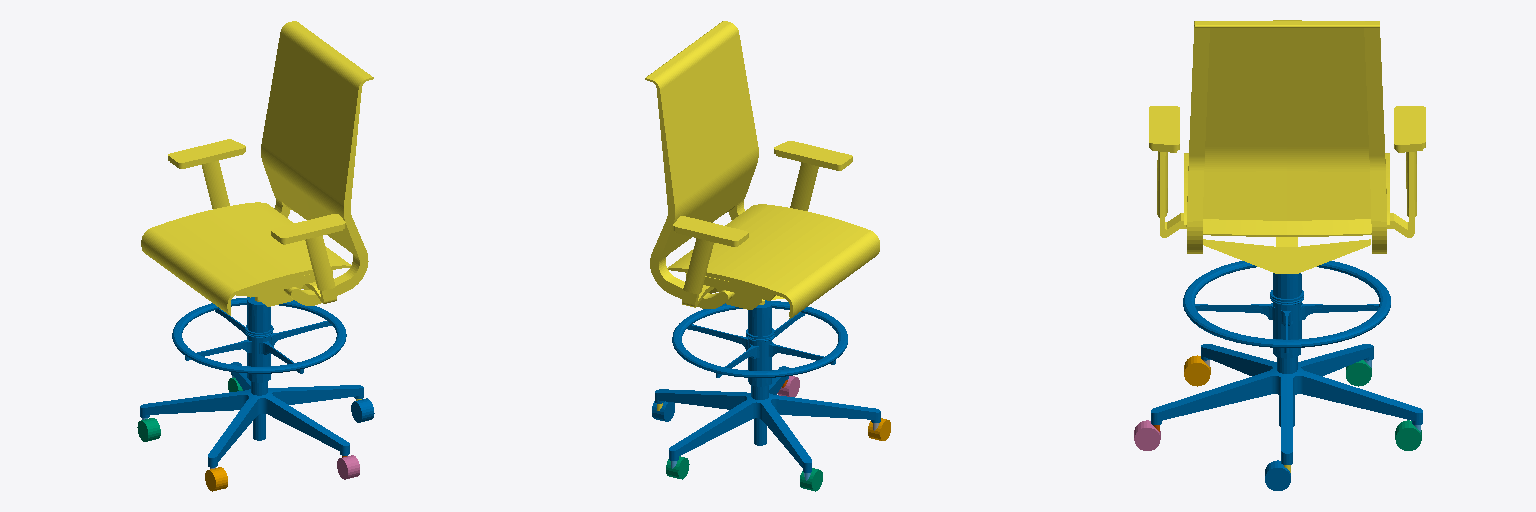
URDF robot description (partnet_5d60590d192c52553a23b8cb1a985a11):
<?xml version="1.0" ?>
<robot name="partnet_5d60590d192c52553a23b8cb1a985a11">
	<link name="base"/>
	<link name="link_0">
		<visual name="caster_stem-121">
			<origin xyz="0.4707100043177609 0 0.09939788493514051"/>
			<geometry>
				<mesh filename="textured_objs/original-17.obj"/>
			</geometry>
		</visual>
		<collision>
			<origin xyz="0.4707100043177609 0 0.09939788493514051"/>
			<geometry>
				<mesh filename="textured_objs/original-17.obj"/>
			</geometry>
		</collision>
	</link>
	<joint name="joint_0" type="continuous">
		<origin xyz="-0.4707100043177609 0 -0.09939788493514051"/>
		<axis xyz="0 1 0"/>
		<child link="link_0"/>
		<parent link="link_11"/>
	</joint>
	<link name="link_1">
		<visual name="wheel-122">
			<origin xyz="0.4381924251701442 0.783778 0"/>
			<geometry>
				<mesh filename="textured_objs/original-16.obj"/>
			</geometry>
		</visual>
		<collision>
			<origin xyz="0.4381924251701442 0.783778 0"/>
			<geometry>
				<mesh filename="textured_objs/original-16.obj"/>
			</geometry>
		</collision>
	</link>
	<joint name="joint_1" type="continuous">
		<origin xyz="0.032517579147616715 -0.783778 0.09939788493514051"/>
		<axis xyz="0 0 1"/>
		<child link="link_1"/>
		<parent link="link_0"/>
	</joint>
	<link name="link_2">
		<visual name="caster_stem-119">
			<origin xyz="0.013175996994972107 0 0.43086305685043264"/>
			<geometry>
				<mesh filename="textured_objs/original-14.obj"/>
			</geometry>
		</visual>
		<collision>
			<origin xyz="0.013175996994972107 0 0.43086305685043264"/>
			<geometry>
				<mesh filename="textured_objs/original-14.obj"/>
			</geometry>
		</collision>
	</link>
	<joint name="joint_2" type="continuous">
		<origin xyz="-0.013175996994972107 0 -0.43086305685043264"/>
		<axis xyz="0 1 0"/>
		<child link="link_2"/>
		<parent link="link_11"/>
	</joint>
	<link name="link_3">
		<visual name="wheel-120">
			<origin xyz="-0.01919977780095489 0.783778 0"/>
			<geometry>
				<mesh filename="textured_objs/original-13.obj"/>
			</geometry>
		</visual>
		<collision>
			<origin xyz="-0.01919977780095489 0.783778 0"/>
			<geometry>
				<mesh filename="textured_objs/original-13.obj"/>
			</geometry>
		</collision>
	</link>
	<joint name="joint_3" type="continuous">
		<origin xyz="0.032375774795927 -0.783778 0.43086305685043264"/>
		<axis xyz="0 0 1"/>
		<child link="link_3"/>
		<parent link="link_2"/>
	</joint>
	<link name="link_4">
		<visual name="caster_stem-117">
			<origin xyz="-0.44573907285928754 0 0.09923614031076429"/>
			<geometry>
				<mesh filename="textured_objs/original-5.obj"/>
			</geometry>
		</visual>
		<collision>
			<origin xyz="-0.44573907285928754 0 0.09923614031076429"/>
			<geometry>
				<mesh filename="textured_objs/original-5.obj"/>
			</geometry>
		</collision>
	</link>
	<joint name="joint_4" type="continuous">
		<origin xyz="0.44573907285928754 0 -0.09923614031076429"/>
		<axis xyz="0 1 0"/>
		<child link="link_4"/>
		<parent link="link_11"/>
	</joint>
	<link name="link_5">
		<visual name="wheel-118">
			<origin xyz="-0.476592 0.7837780000000001 0"/>
			<geometry>
				<mesh filename="textured_objs/original-4.obj"/>
			</geometry>
		</visual>
		<collision>
			<origin xyz="-0.476592 0.7837780000000001 0"/>
			<geometry>
				<mesh filename="textured_objs/original-4.obj"/>
			</geometry>
		</collision>
	</link>
	<joint name="joint_5" type="continuous">
		<origin xyz="0.03085292714071247 -0.7837780000000001 0.09923614031076429"/>
		<axis xyz="0 0 -1"/>
		<child link="link_5"/>
		<parent link="link_4"/>
	</joint>
	<link name="link_6">
		<visual name="caster_stem-115">
			<origin xyz="-0.26959100386500306 0 -0.4379544916123159"/>
			<geometry>
				<mesh filename="textured_objs/original-8.obj"/>
			</geometry>
		</visual>
		<collision>
			<origin xyz="-0.26959100386500306 0 -0.4379544916123159"/>
			<geometry>
				<mesh filename="textured_objs/original-8.obj"/>
			</geometry>
		</collision>
	</link>
	<joint name="joint_6" type="continuous">
		<origin xyz="0.26959100386500306 0 0.4379544916123159"/>
		<axis xyz="0 1 0"/>
		<child link="link_6"/>
		<parent link="link_11"/>
	</joint>
	<link name="link_7">
		<visual name="wheel-116">
			<origin xyz="-0.3018837778009549 0.783778 0"/>
			<geometry>
				<mesh filename="textured_objs/original-7.obj"/>
			</geometry>
		</visual>
		<collision>
			<origin xyz="-0.3018837778009549 0.783778 0"/>
			<geometry>
				<mesh filename="textured_objs/original-7.obj"/>
			</geometry>
		</collision>
	</link>
	<joint name="joint_7" type="continuous">
		<origin xyz="0.03229277393595181 -0.783778 -0.4379544916123159"/>
		<axis xyz="0 0 1"/>
		<child link="link_7"/>
		<parent link="link_6"/>
	</joint>
	<link name="link_8">
		<visual name="caster_stem-113">
			<origin xyz="0.29466751948237385 0 -0.4368965162873268"/>
			<geometry>
				<mesh filename="textured_objs/original-11.obj"/>
			</geometry>
		</visual>
		<collision>
			<origin xyz="0.29466751948237385 0 -0.4368965162873268"/>
			<geometry>
				<mesh filename="textured_objs/original-11.obj"/>
			</geometry>
		</collision>
	</link>
	<joint name="joint_8" type="continuous">
		<origin xyz="-0.29466751948237385 0 0.4368965162873268"/>
		<axis xyz="0 1 0"/>
		<child link="link_8"/>
		<parent link="link_11"/>
	</joint>
	<link name="link_9">
		<visual name="wheel-114">
			<origin xyz="0.2634842221990451 0.783778 0"/>
			<geometry>
				<mesh filename="textured_objs/original-10.obj"/>
			</geometry>
		</visual>
		<collision>
			<origin xyz="0.2634842221990451 0.783778 0"/>
			<geometry>
				<mesh filename="textured_objs/original-10.obj"/>
			</geometry>
		</collision>
	</link>
	<joint name="joint_9" type="continuous">
		<origin xyz="0.031183297283328748 -0.783778 -0.4368965162873268"/>
		<axis xyz="0 0 -1"/>
		<child link="link_9"/>
		<parent link="link_8"/>
	</joint>
	<link name="link_10">
		<visual name="back_frame_horizontal_bar-91">
			<origin xyz="0.012739177155780167 0 -0.04959820927691659"/>
			<geometry>
				<mesh filename="textured_objs/new-11.obj"/>
			</geometry>
		</visual>
		<visual name="back_connector-81">
			<origin xyz="0.012739177155780167 0 -0.04959820927691659"/>
			<geometry>
				<mesh filename="textured_objs/original-40.obj"/>
			</geometry>
		</visual>
		<visual name="back_connector-82">
			<origin xyz="0.012739177155780167 0 -0.04959820927691659"/>
			<geometry>
				<mesh filename="textured_objs/original-29.obj"/>
			</geometry>
		</visual>
		<visual name="back_soft_surface-92">
			<origin xyz="0.012739177155780167 0 -0.04959820927691659"/>
			<geometry>
				<mesh filename="textured_objs/original-38.obj"/>
			</geometry>
		</visual>
		<visual name="back_frame_horizontal_bar-90">
			<origin xyz="0.012739177155780167 0 -0.04959820927691659"/>
			<geometry>
				<mesh filename="textured_objs/new-12.obj"/>
			</geometry>
		</visual>
		<visual name="back_frame_vertical_bar-89">
			<origin xyz="0.012739177155780167 0 -0.04959820927691659"/>
			<geometry>
				<mesh filename="textured_objs/new-16.obj"/>
			</geometry>
		</visual>
		<visual name="back_frame_vertical_bar-88">
			<origin xyz="0.012739177155780167 0 -0.04959820927691659"/>
			<geometry>
				<mesh filename="textured_objs/new-18.obj"/>
			</geometry>
		</visual>
		<visual name="back_connector-134">
			<origin xyz="0.012739177155780167 0 -0.04959820927691659"/>
			<geometry>
				<mesh filename="textured_objs/new-15.obj"/>
			</geometry>
		</visual>
		<visual name="back_connector-135">
			<origin xyz="0.012739177155780167 0 -0.04959820927691659"/>
			<geometry>
				<mesh filename="textured_objs/new-17.obj"/>
			</geometry>
		</visual>
		<visual name="armrest_hard_surface-74">
			<origin xyz="0.012739177155780167 0 -0.04959820927691659"/>
			<geometry>
				<mesh filename="textured_objs/original-35.obj"/>
			</geometry>
		</visual>
		<visual name="arm_vertical_bar-75">
			<origin xyz="0.012739177155780167 0 -0.04959820927691659"/>
			<geometry>
				<mesh filename="textured_objs/original-34.obj"/>
			</geometry>
		</visual>
		<visual name="arm_connector-76">
			<origin xyz="0.012739177155780167 0 -0.04959820927691659"/>
			<geometry>
				<mesh filename="textured_objs/original-32.obj"/>
			</geometry>
		</visual>
		<visual name="arm_vertical_bar-61">
			<origin xyz="0.012739177155780167 0 -0.04959820927691659"/>
			<geometry>
				<mesh filename="textured_objs/original-26.obj"/>
			</geometry>
		</visual>
		<visual name="arm_connector-62">
			<origin xyz="0.012739177155780167 0 -0.04959820927691659"/>
			<geometry>
				<mesh filename="textured_objs/original-24.obj"/>
			</geometry>
		</visual>
		<visual name="armrest_hard_surface-73">
			<origin xyz="0.012739177155780167 0 -0.04959820927691659"/>
			<geometry>
				<mesh filename="textured_objs/original-27.obj"/>
			</geometry>
		</visual>
		<visual name="seat_soft_surface-72">
			<origin xyz="0.012739177155780167 0 -0.04959820927691659"/>
			<geometry>
				<mesh filename="textured_objs/original-22.obj"/>
			</geometry>
		</visual>
		<visual name="seat_frame_vertical_bar-67">
			<origin xyz="0.012739177155780167 0 -0.04959820927691659"/>
			<geometry>
				<mesh filename="textured_objs/original-30.obj"/>
			</geometry>
		</visual>
		<visual name="seat_frame_vertical_bar-66">
			<origin xyz="0.012739177155780167 0 -0.04959820927691659"/>
			<geometry>
				<mesh filename="textured_objs/original-41.obj"/>
			</geometry>
		</visual>
		<visual name="seat_support-133">
			<origin xyz="0.012739177155780167 0 -0.04959820927691659"/>
			<geometry>
				<mesh filename="textured_objs/original-21.obj"/>
			</geometry>
		</visual>
		<visual name="central_support-131">
			<origin xyz="0.012739177155780167 0 -0.04959820927691659"/>
			<geometry>
				<mesh filename="textured_objs/new-5.obj"/>
			</geometry>
		</visual>
		<visual name="seat_connector-132">
			<origin xyz="0.012739177155780167 0 -0.04959820927691659"/>
			<geometry>
				<mesh filename="textured_objs/original-19.obj"/>
			</geometry>
		</visual>
		<collision>
			<origin xyz="0.012739177155780167 0 -0.04959820927691659"/>
			<geometry>
				<mesh filename="textured_objs/new-11.obj"/>
			</geometry>
		</collision>
		<collision>
			<origin xyz="0.012739177155780167 0 -0.04959820927691659"/>
			<geometry>
				<mesh filename="textured_objs/original-40.obj"/>
			</geometry>
		</collision>
		<collision>
			<origin xyz="0.012739177155780167 0 -0.04959820927691659"/>
			<geometry>
				<mesh filename="textured_objs/original-29.obj"/>
			</geometry>
		</collision>
		<collision>
			<origin xyz="0.012739177155780167 0 -0.04959820927691659"/>
			<geometry>
				<mesh filename="textured_objs/original-38.obj"/>
			</geometry>
		</collision>
		<collision>
			<origin xyz="0.012739177155780167 0 -0.04959820927691659"/>
			<geometry>
				<mesh filename="textured_objs/new-12.obj"/>
			</geometry>
		</collision>
		<collision>
			<origin xyz="0.012739177155780167 0 -0.04959820927691659"/>
			<geometry>
				<mesh filename="textured_objs/new-16.obj"/>
			</geometry>
		</collision>
		<collision>
			<origin xyz="0.012739177155780167 0 -0.04959820927691659"/>
			<geometry>
				<mesh filename="textured_objs/new-18.obj"/>
			</geometry>
		</collision>
		<collision>
			<origin xyz="0.012739177155780167 0 -0.04959820927691659"/>
			<geometry>
				<mesh filename="textured_objs/new-15.obj"/>
			</geometry>
		</collision>
		<collision>
			<origin xyz="0.012739177155780167 0 -0.04959820927691659"/>
			<geometry>
				<mesh filename="textured_objs/new-17.obj"/>
			</geometry>
		</collision>
		<collision>
			<origin xyz="0.012739177155780167 0 -0.04959820927691659"/>
			<geometry>
				<mesh filename="textured_objs/original-35.obj"/>
			</geometry>
		</collision>
		<collision>
			<origin xyz="0.012739177155780167 0 -0.04959820927691659"/>
			<geometry>
				<mesh filename="textured_objs/original-34.obj"/>
			</geometry>
		</collision>
		<collision>
			<origin xyz="0.012739177155780167 0 -0.04959820927691659"/>
			<geometry>
				<mesh filename="textured_objs/original-32.obj"/>
			</geometry>
		</collision>
		<collision>
			<origin xyz="0.012739177155780167 0 -0.04959820927691659"/>
			<geometry>
				<mesh filename="textured_objs/original-26.obj"/>
			</geometry>
		</collision>
		<collision>
			<origin xyz="0.012739177155780167 0 -0.04959820927691659"/>
			<geometry>
				<mesh filename="textured_objs/original-24.obj"/>
			</geometry>
		</collision>
		<collision>
			<origin xyz="0.012739177155780167 0 -0.04959820927691659"/>
			<geometry>
				<mesh filename="textured_objs/original-27.obj"/>
			</geometry>
		</collision>
		<collision>
			<origin xyz="0.012739177155780167 0 -0.04959820927691659"/>
			<geometry>
				<mesh filename="textured_objs/original-22.obj"/>
			</geometry>
		</collision>
		<collision>
			<origin xyz="0.012739177155780167 0 -0.04959820927691659"/>
			<geometry>
				<mesh filename="textured_objs/original-30.obj"/>
			</geometry>
		</collision>
		<collision>
			<origin xyz="0.012739177155780167 0 -0.04959820927691659"/>
			<geometry>
				<mesh filename="textured_objs/original-41.obj"/>
			</geometry>
		</collision>
		<collision>
			<origin xyz="0.012739177155780167 0 -0.04959820927691659"/>
			<geometry>
				<mesh filename="textured_objs/original-21.obj"/>
			</geometry>
		</collision>
		<collision>
			<origin xyz="0.012739177155780167 0 -0.04959820927691659"/>
			<geometry>
				<mesh filename="textured_objs/new-5.obj"/>
			</geometry>
		</collision>
		<collision>
			<origin xyz="0.012739177155780167 0 -0.04959820927691659"/>
			<geometry>
				<mesh filename="textured_objs/original-19.obj"/>
			</geometry>
		</collision>
	</link>
	<joint name="joint_10" type="continuous">
		<origin xyz="0.0 0 0.0"/>
		<axis xyz="0 -1 0"/>
		<child link="link_10"/>
		<parent link="link_10_helper"/>
	</joint>
	<link name="link_11">
		<visual name="central_support-128">
			<origin xyz="0 0 0"/>
			<geometry>
				<mesh filename="textured_objs/new-6.obj"/>
			</geometry>
		</visual>
		<visual name="central_support-129">
			<origin xyz="0 0 0"/>
			<geometry>
				<mesh filename="textured_objs/original-45.obj"/>
			</geometry>
		</visual>
		<visual name="central_support-130">
			<origin xyz="0 0 0"/>
			<geometry>
				<mesh filename="textured_objs/original-47.obj"/>
			</geometry>
		</visual>
		<visual name="footrest_bar-123">
			<origin xyz="0 0 0"/>
			<geometry>
				<mesh filename="textured_objs/new-10.obj"/>
			</geometry>
		</visual>
		<visual name="footrest_bar-124">
			<origin xyz="0 0 0"/>
			<geometry>
				<mesh filename="textured_objs/new-9.obj"/>
			</geometry>
		</visual>
		<visual name="footrest_bar-125">
			<origin xyz="0 0 0"/>
			<geometry>
				<mesh filename="textured_objs/new-8.obj"/>
			</geometry>
		</visual>
		<visual name="footrest_bar-126">
			<origin xyz="0 0 0"/>
			<geometry>
				<mesh filename="textured_objs/new-7.obj"/>
			</geometry>
		</visual>
		<visual name="footrest_circular-127">
			<origin xyz="0 0 0"/>
			<geometry>
				<mesh filename="textured_objs/original-43.obj"/>
			</geometry>
		</visual>
		<visual name="leg-100">
			<origin xyz="0 0 0"/>
			<geometry>
				<mesh filename="textured_objs/new-2.obj"/>
			</geometry>
		</visual>
		<visual name="leg-101">
			<origin xyz="0 0 0"/>
			<geometry>
				<mesh filename="textured_objs/new-3.obj"/>
			</geometry>
		</visual>
		<visual name="leg-102">
			<origin xyz="0 0 0"/>
			<geometry>
				<mesh filename="textured_objs/new-4.obj"/>
			</geometry>
		</visual>
		<visual name="leg-103">
			<origin xyz="0 0 0"/>
			<geometry>
				<mesh filename="textured_objs/new-0.obj"/>
			</geometry>
		</visual>
		<visual name="leg-104">
			<origin xyz="0 0 0"/>
			<geometry>
				<mesh filename="textured_objs/new-1.obj"/>
			</geometry>
		</visual>
		<collision>
			<origin xyz="0 0 0"/>
			<geometry>
				<mesh filename="textured_objs/new-6.obj"/>
			</geometry>
		</collision>
		<collision>
			<origin xyz="0 0 0"/>
			<geometry>
				<mesh filename="textured_objs/original-45.obj"/>
			</geometry>
		</collision>
		<collision>
			<origin xyz="0 0 0"/>
			<geometry>
				<mesh filename="textured_objs/original-47.obj"/>
			</geometry>
		</collision>
		<collision>
			<origin xyz="0 0 0"/>
			<geometry>
				<mesh filename="textured_objs/new-10.obj"/>
			</geometry>
		</collision>
		<collision>
			<origin xyz="0 0 0"/>
			<geometry>
				<mesh filename="textured_objs/new-9.obj"/>
			</geometry>
		</collision>
		<collision>
			<origin xyz="0 0 0"/>
			<geometry>
				<mesh filename="textured_objs/new-8.obj"/>
			</geometry>
		</collision>
		<collision>
			<origin xyz="0 0 0"/>
			<geometry>
				<mesh filename="textured_objs/new-7.obj"/>
			</geometry>
		</collision>
		<collision>
			<origin xyz="0 0 0"/>
			<geometry>
				<mesh filename="textured_objs/original-43.obj"/>
			</geometry>
		</collision>
		<collision>
			<origin xyz="0 0 0"/>
			<geometry>
				<mesh filename="textured_objs/new-2.obj"/>
			</geometry>
		</collision>
		<collision>
			<origin xyz="0 0 0"/>
			<geometry>
				<mesh filename="textured_objs/new-3.obj"/>
			</geometry>
		</collision>
		<collision>
			<origin xyz="0 0 0"/>
			<geometry>
				<mesh filename="textured_objs/new-4.obj"/>
			</geometry>
		</collision>
		<collision>
			<origin xyz="0 0 0"/>
			<geometry>
				<mesh filename="textured_objs/new-0.obj"/>
			</geometry>
		</collision>
		<collision>
			<origin xyz="0 0 0"/>
			<geometry>
				<mesh filename="textured_objs/new-1.obj"/>
			</geometry>
		</collision>
	</link>
	<joint name="joint_11" type="fixed">
		<origin rpy="1.570796326794897 0 -1.570796326794897" xyz="0 0 0"/>
		<child link="link_11"/>
		<parent link="base"/>
	</joint>
	<link name="link_10_helper"/>
	<joint name="joint_12" type="prismatic">
		<origin xyz="-0.012739177155780167 0 0.04959820927691659"/>
		<axis xyz="0 -1 0"/>
		<child link="link_10_helper"/>
		<parent link="link_11"/>
		<limit lower="0" upper="0.03600000000000003"/>
	</joint>
</robot>

--- Facts derived from the render (not from the file) ---
3 views of the same robot in one strip: view 1: azimuth 30°, elevation 25°; view 2: azimuth 150°, elevation 25°; view 3: azimuth 270°, elevation 25° (orthographic).
Robot: partnet_5d60590d192c52553a23b8cb1a985a11 — 14 links, 13 joints (11 continuous, 1 prismatic, 1 fixed); root link base; default pose: all joints at 0.
Links seen in each view (by area): view 1: link_10, link_11; view 2: link_10, link_11; view 3: link_10, link_11, link_7, link_5, link_1, link_3, link_9.
Link boxes in pixels (x1,y1,x2,y2): link_10: [141, 21, 373, 315]; link_11: [140, 297, 363, 467]; link_10: [645, 21, 879, 318]; link_11: [655, 300, 880, 472]; link_10: [1149, 20, 1425, 273]; link_11: [1151, 261, 1422, 464]; link_7: [1184, 355, 1210, 386]; link_5: [1134, 420, 1160, 450]; link_1: [1395, 420, 1421, 450]; link_3: [1265, 460, 1290, 490]; link_9: [1346, 360, 1371, 386].
Bounding box of the posed robot: 0.9298 × 1.02 × 1.73 m (x, y, z).
44 mesh visuals loaded from 44 distinct referenced files (44 OBJ).
